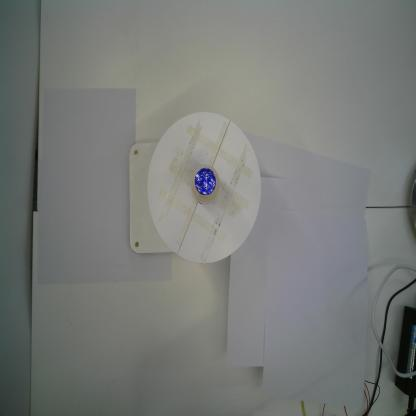Milk: (190, 162, 221, 209)
